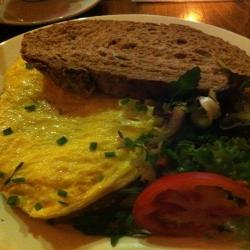bread: (18, 15, 249, 118)
omelette: (4, 56, 151, 224)
salad: (170, 124, 250, 186)
